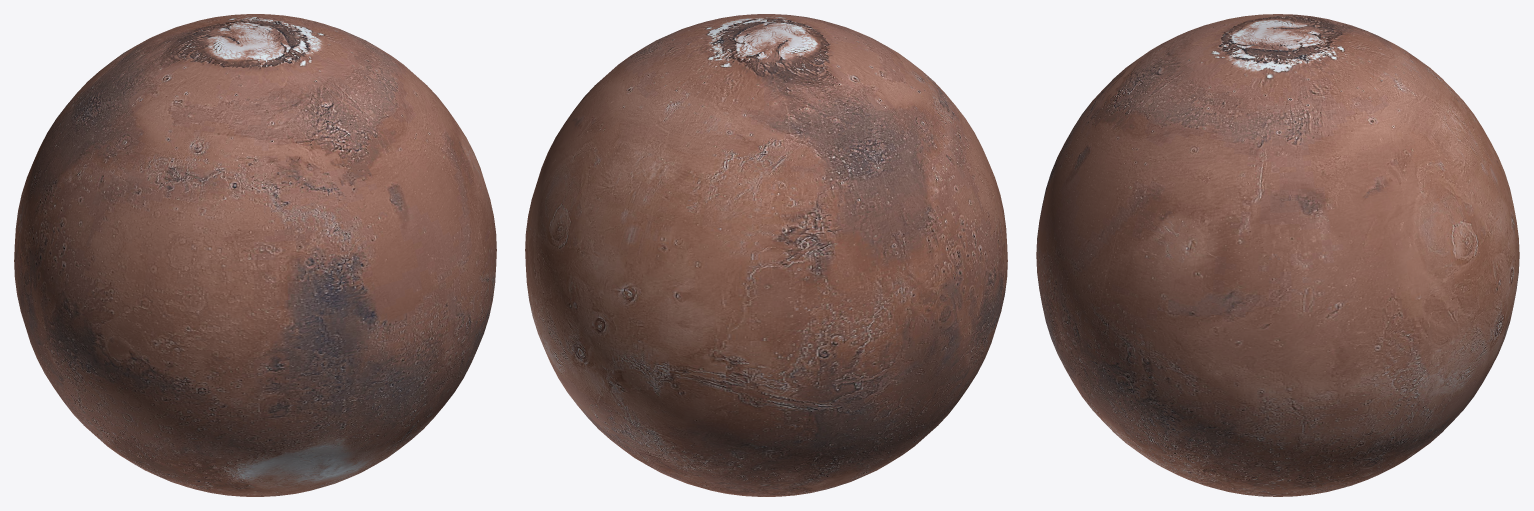
3 views of the same model, side by side, from view 1: azimuth 30°, elevation 25°; view 2: azimuth 150°, elevation 25°; view 3: azimuth 270°, elevation 25° (orthographic).
Parts seen in each view (by area): view 1: mars_GEO_n3d2; view 2: mars_GEO_n3d2; view 3: mars_GEO_n3d2.
Boxes of the visible parts, left/top/right/bottom form: mars_GEO_n3d2: left=14, top=14, right=496, bottom=496; mars_GEO_n3d2: left=525, top=14, right=1007, bottom=496; mars_GEO_n3d2: left=1036, top=14, right=1519, bottom=496.
Size of the model in its own units: 0.1366 by 0.1366 by 0.1366.
1 material, 1 textured.
